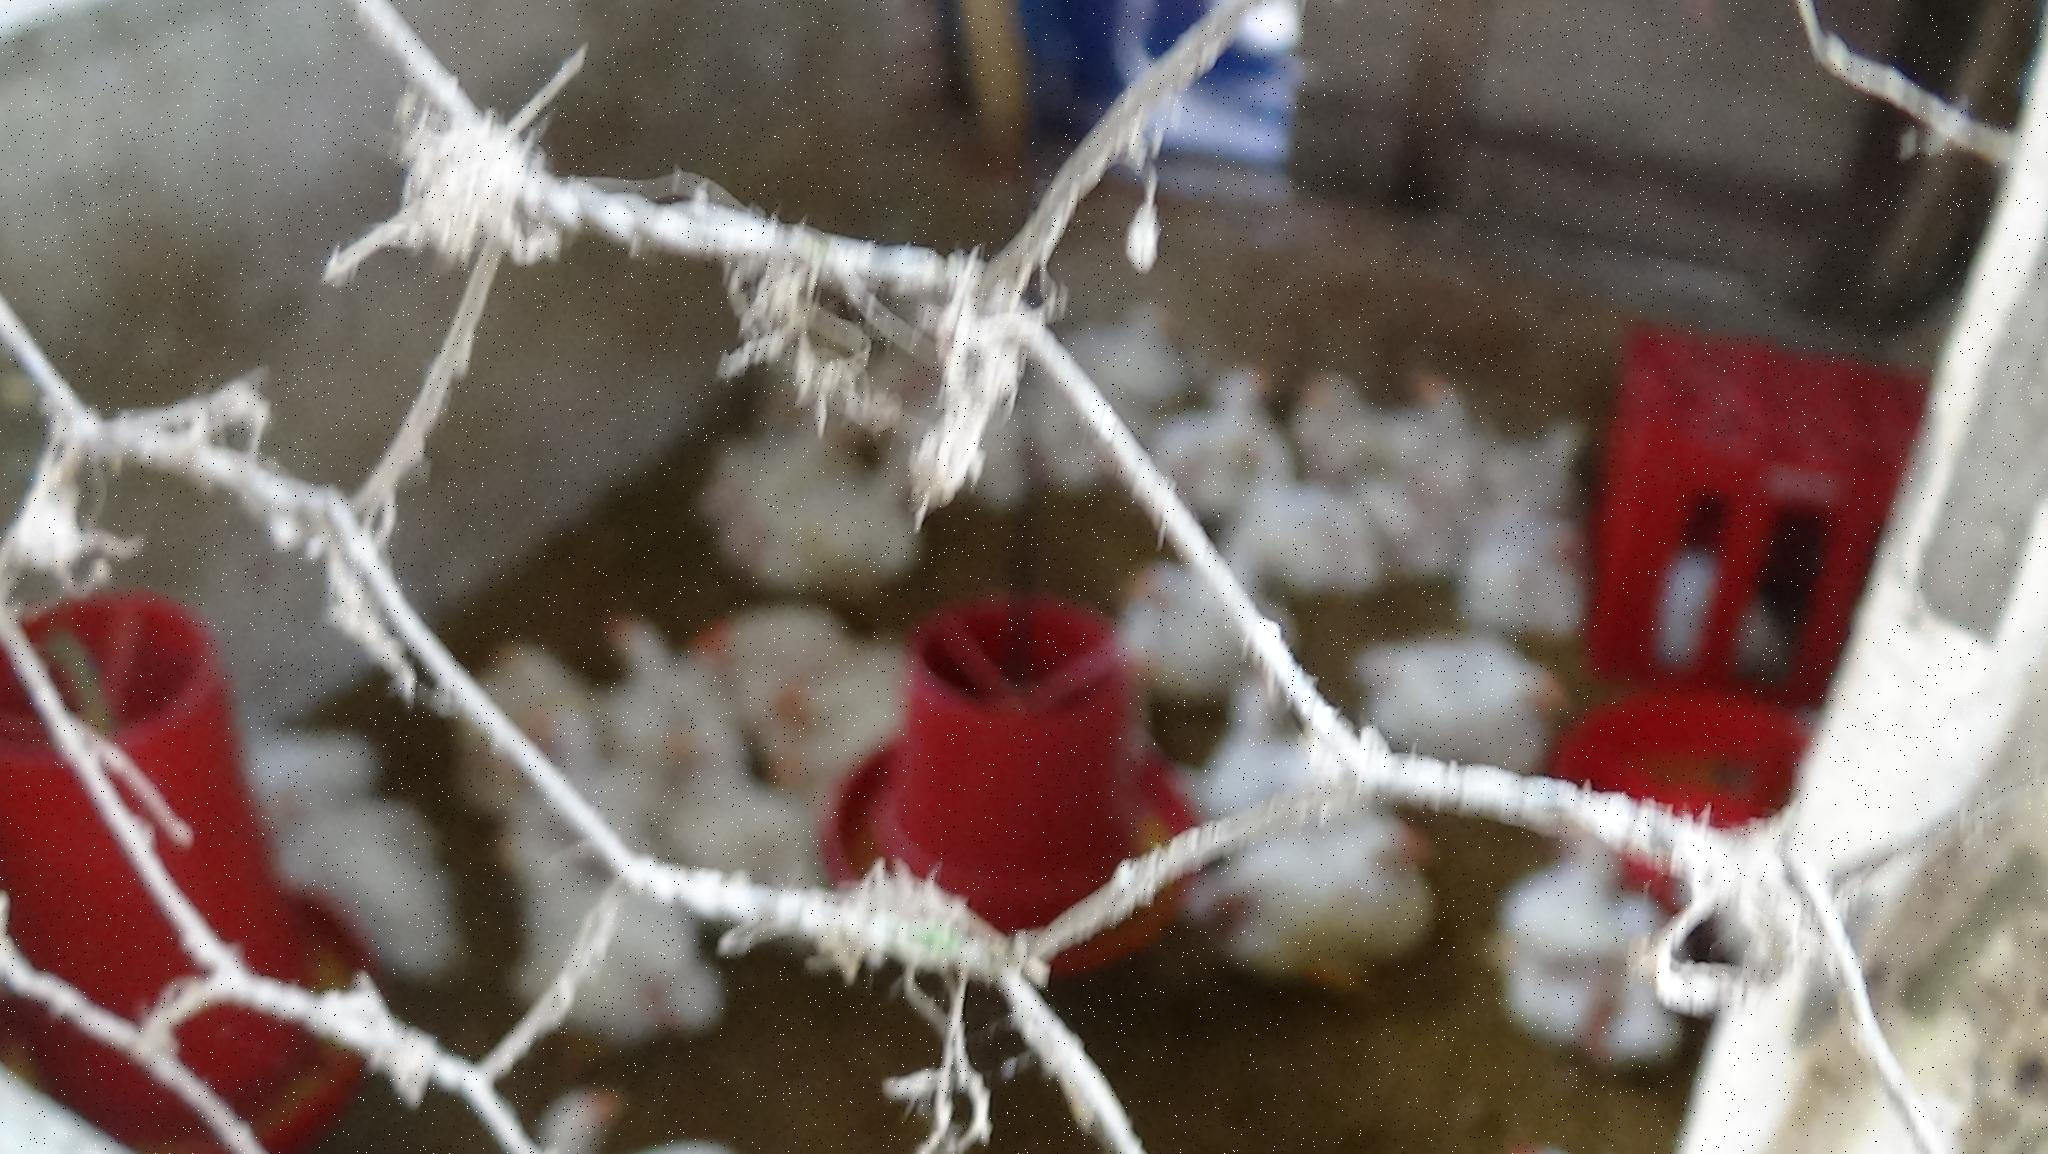Pollos: (1502, 795, 1727, 1063), (489, 819, 710, 1039), (1212, 802, 1461, 977), (1371, 625, 1578, 790), (440, 629, 605, 759), (1468, 490, 1595, 630), (696, 591, 857, 695), (1172, 357, 1287, 493), (1076, 265, 1186, 394), (1293, 366, 1395, 481), (1487, 408, 1611, 502), (605, 600, 689, 714), (1385, 355, 1471, 435)
